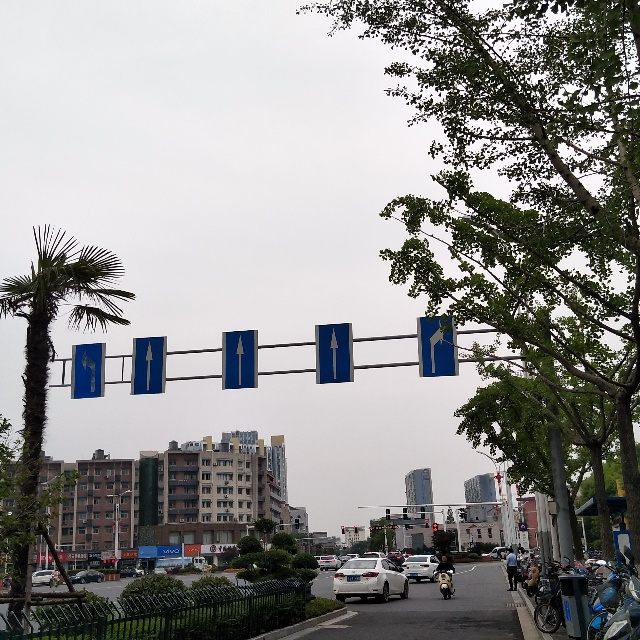left: (74, 343, 101, 396)
right: (420, 313, 453, 369)
straight: (222, 334, 259, 389), (321, 325, 352, 386), (137, 347, 164, 396)
